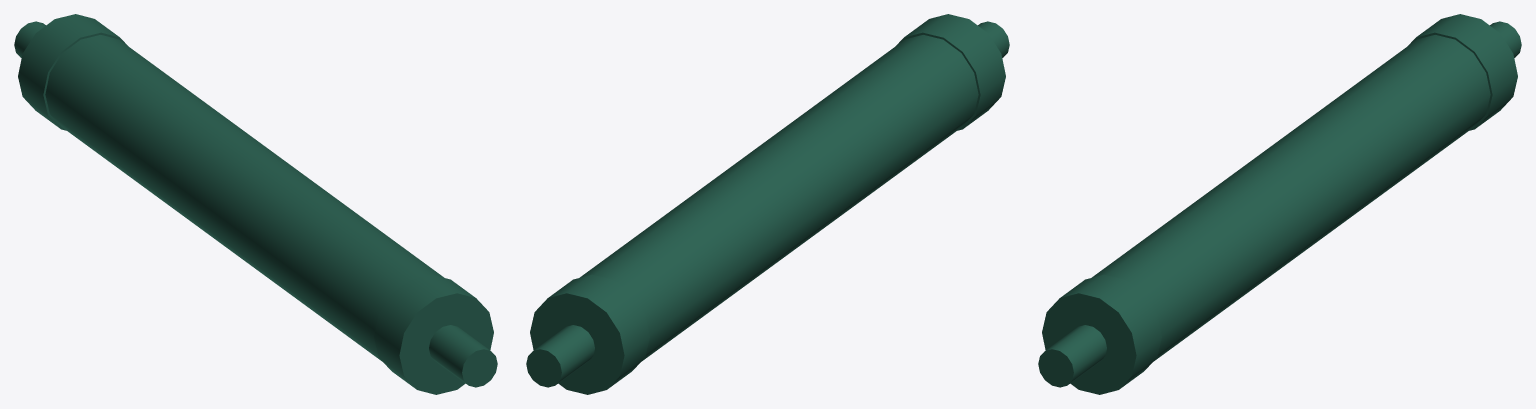
Rendered from tube light.fbx.
3 renders of one model, left to right at view 1: azimuth 30°, elevation 25°; view 2: azimuth 150°, elevation 25°; view 3: azimuth 330°, elevation 25°, orthographic.
Parts seen in each view (by area): view 1: bed; view 2: bed; view 3: bed.
Boxes of the visible parts, bbox=[...] form: bed: bbox=[14, 14, 497, 394]; bed: bbox=[526, 14, 1009, 394]; bed: bbox=[1038, 14, 1521, 394].
Size of the model in its own units: 21.66 by 21.12 by 177.
